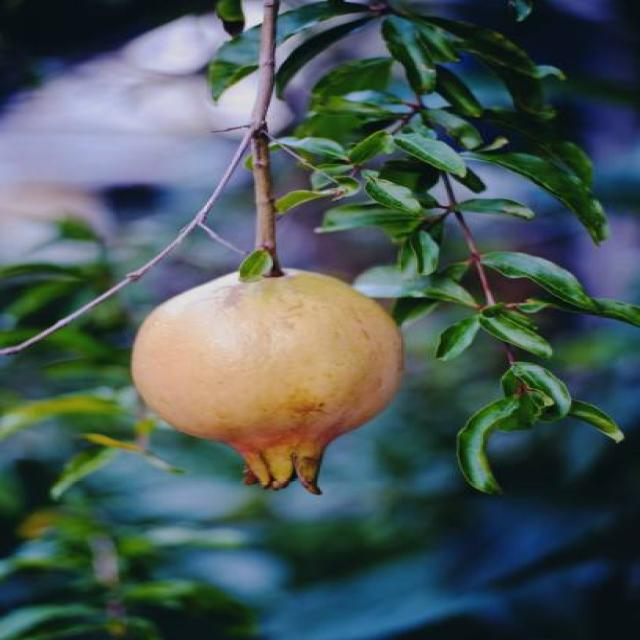Unripe: (130, 262, 401, 496)
